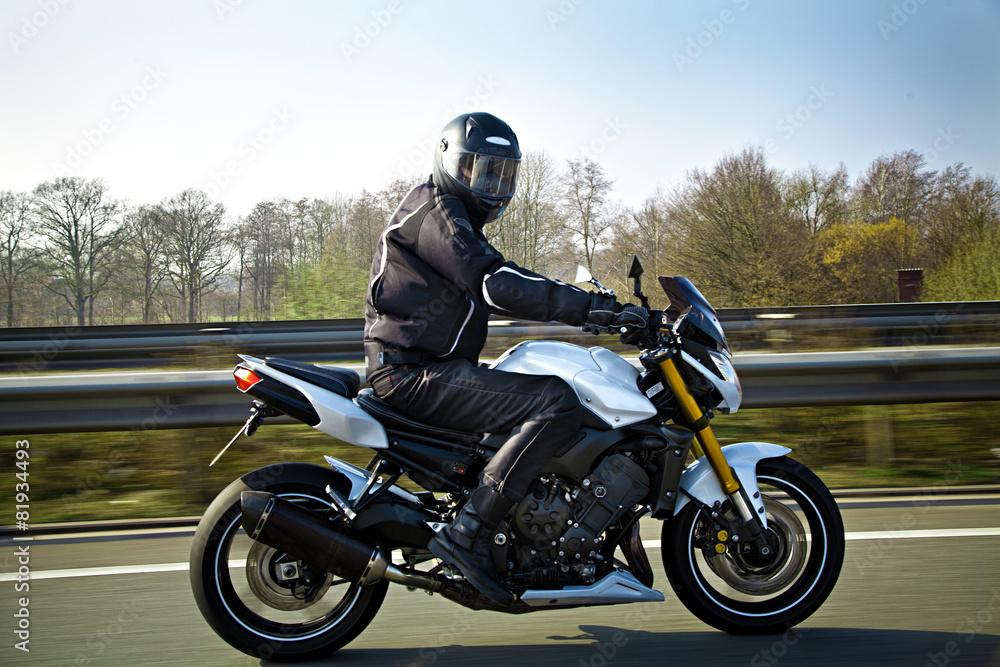helmet: (432, 111, 523, 225)
